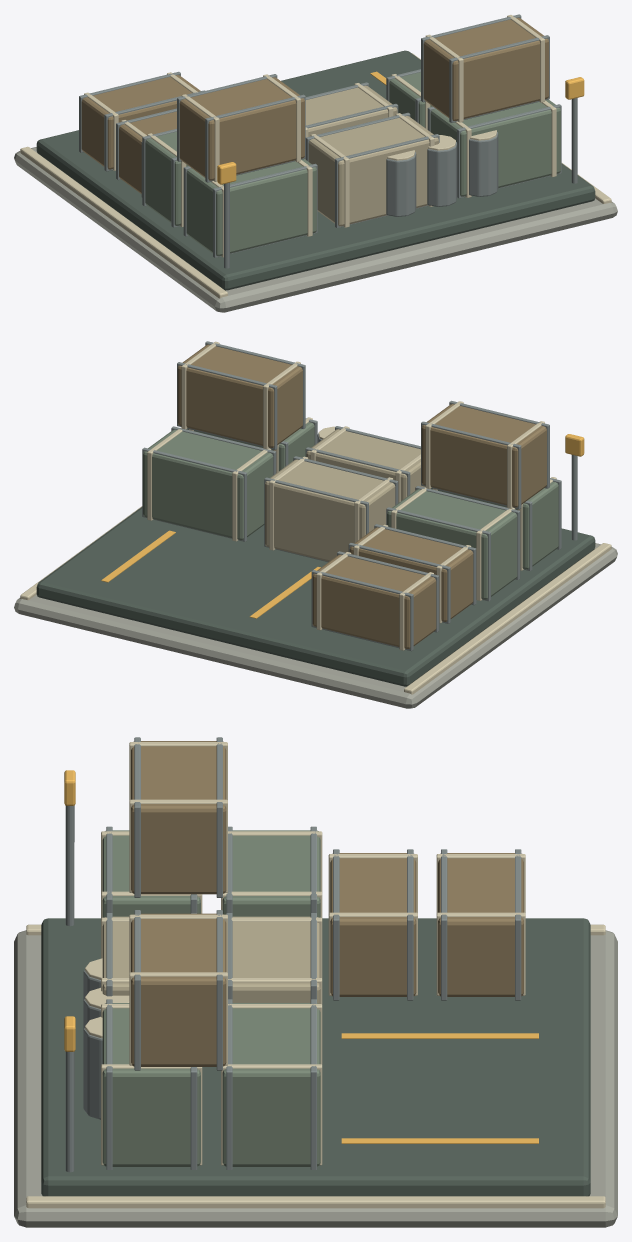
File: dock.glb
The picture shows the model from 3 angles, top to bottom: view 1: azimuth 30°, elevation 25°; view 2: azimuth 150°, elevation 25°; view 3: azimuth 270°, elevation 25°; orthographic projection. The views are drawn at different scales.
Parts seen in each view (by area): view 1: body; view 2: body; view 3: body.
Boxes of the visible parts, x1,y1,x2,y2 form: body: (14, 14, 617, 312); body: (14, 341, 617, 708); body: (14, 737, 617, 1227).
Size of the model in its own units: 7.75 by 2.94 by 6.95.
